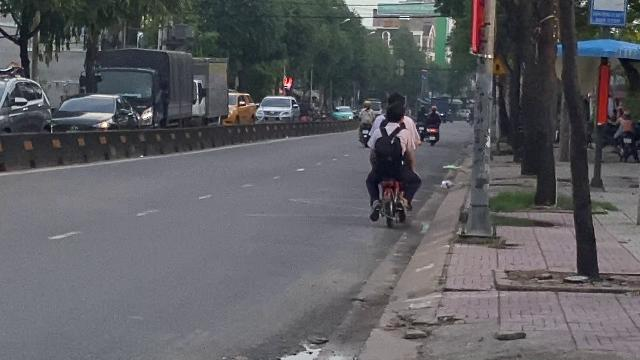motorcyclist: (359, 90, 426, 228)
nohelmet: (386, 100, 406, 126)
